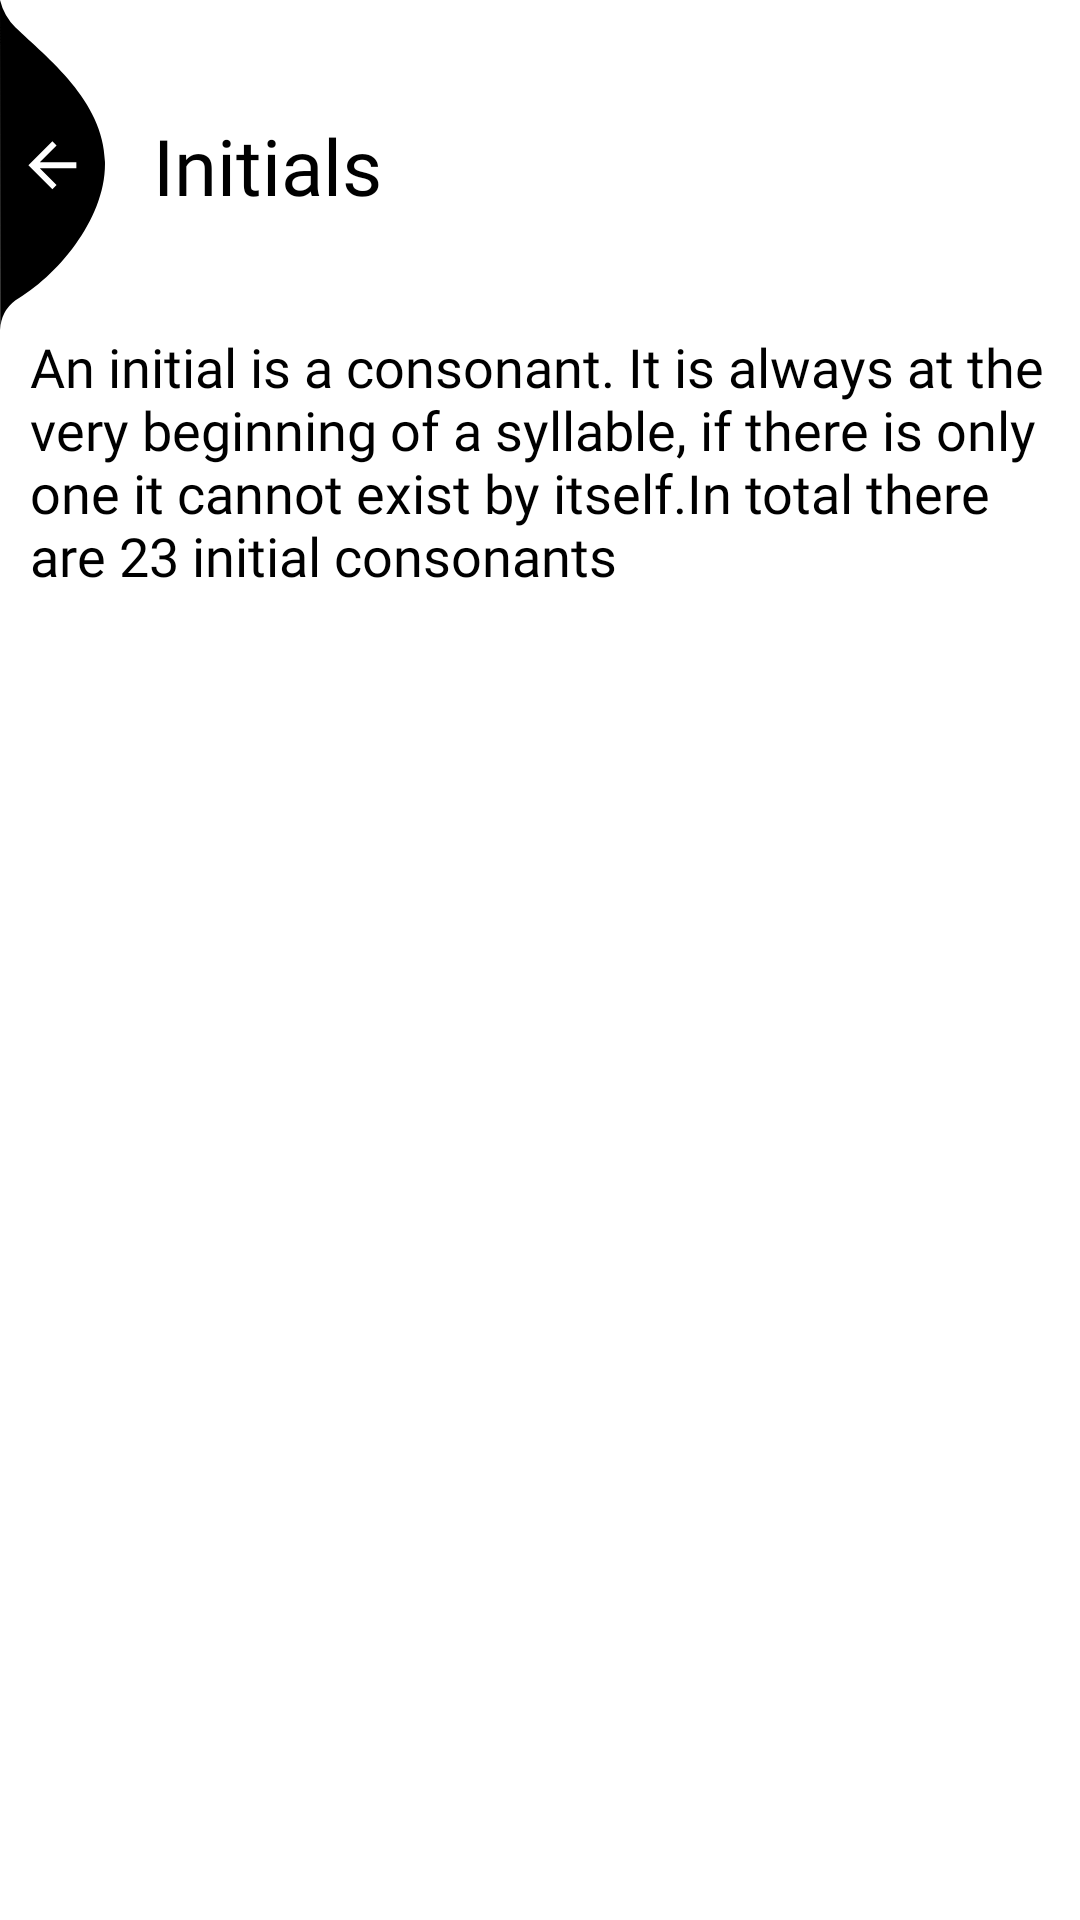

Named icons in this screenshot (1080w x 1920h) and their centers, (x=x, y=y):
back: (x=52, y=164)
